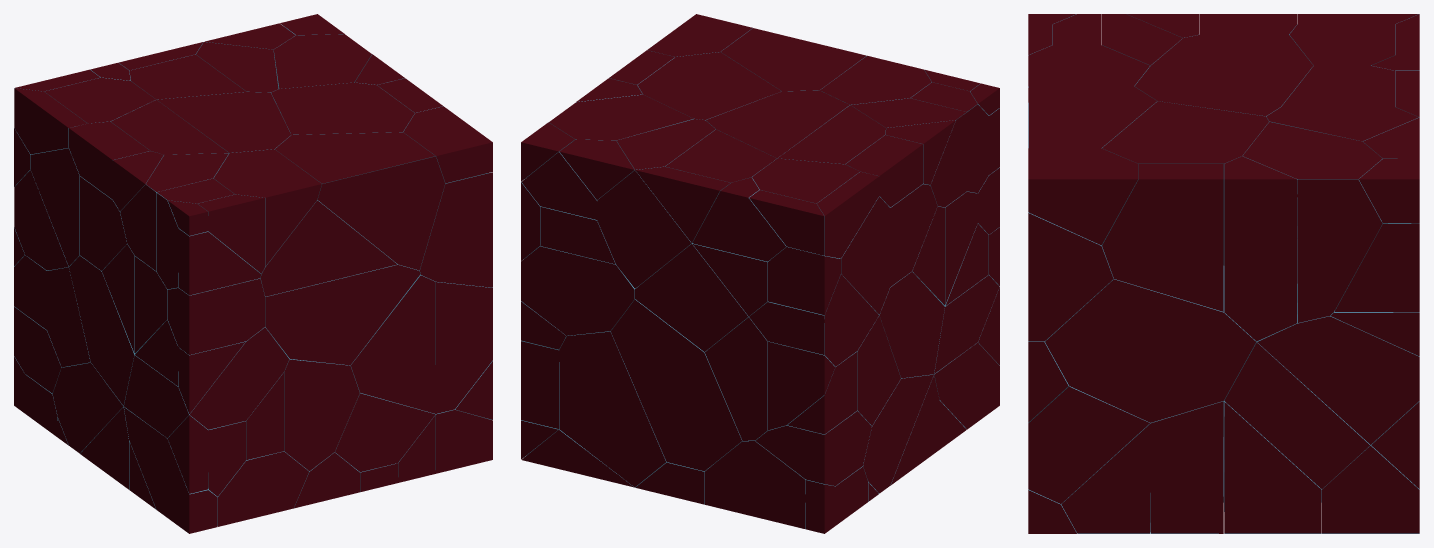
Rendered from cellFracture.glb.
3 renders of one model, left to right at view 1: azimuth 30°, elevation 25°; view 2: azimuth 150°, elevation 25°; view 3: azimuth 270°, elevation 25°, orthographic. The views are drawn at different scales.
Visible parts, largest first — view 1: Cube_cell.003, Cube_cell.061, Cube_cell.044, Cube_cell.070, Cube_cell.082, Cube_cell.098, Cube_cell.092, Cube_cell.072, Cube_cell.023, Cube_cell.045, Cube_cell.083, Cube_cell.030 (+51 smaller); view 2: Cube_cell.031, Cube_cell.096, Cube_cell.034, Cube_cell.052, Cube_cell.022, Cube_cell.042, Cube_cell.072, Cube_cell.030, Cube_cell.083, Cube_cell.043, Cube_cell.057, Cube_cell.053 (+53 smaller); view 3: Cube_cell.088, Cube_cell.071, Cube_cell.095, Cube_cell.073, Cube_cell.074, Cube_cell.068, Cube_cell.010, Cube_cell.080, Cube_cell.006, Cube_cell.002, Cube_cell.072, Cube_cell.070 (+26 smaller).
Part boxes in pixels (box(x1,y1,x2,y2)): Cube_cell.003: box(265, 262, 420, 365); Cube_cell.061: box(317, 156, 445, 270); Cube_cell.044: box(350, 274, 435, 413); Cube_cell.070: box(419, 172, 492, 287); Cube_cell.082: box(259, 200, 397, 296); Cube_cell.098: box(284, 358, 359, 470); Cube_cell.092: box(435, 281, 492, 413); Cube_cell.072: box(271, 82, 414, 134); Cube_cell.023: box(213, 149, 321, 271); Cube_cell.045: box(167, 278, 264, 354); Cube_cell.083: box(275, 132, 435, 183); Cube_cell.030: box(157, 92, 290, 153); Cube_cell.031: box(610, 299, 742, 471); Cube_cell.096: box(559, 331, 666, 487); Cube_cell.034: box(521, 246, 637, 335); Cube_cell.052: box(635, 243, 751, 351); Cube_cell.022: box(597, 170, 691, 288); Cube_cell.042: box(704, 440, 809, 529); Cube_cell.072: box(637, 52, 781, 120); Cube_cell.030: box(706, 90, 849, 158); Cube_cell.083: box(721, 28, 866, 91); Cube_cell.043: box(704, 317, 767, 440); Cube_cell.057: box(755, 411, 871, 485); Cube_cell.053: box(879, 271, 944, 378); Cube_cell.088: box(1045, 266, 1256, 422); Cube_cell.071: box(1102, 164, 1223, 311); Cube_cell.095: box(1224, 156, 1297, 341); Cube_cell.073: box(1257, 303, 1419, 444); Cube_cell.074: box(1224, 341, 1370, 488); Cube_cell.068: box(1297, 179, 1382, 322); Cube_cell.010: box(1150, 401, 1223, 533); Cube_cell.080: box(1224, 401, 1321, 533); Cube_cell.006: box(1028, 386, 1149, 503); Cube_cell.002: box(1028, 148, 1138, 245); Cube_cell.072: box(1102, 101, 1268, 265); Cube_cell.070: box(1028, 212, 1113, 341).
Bounding box in the file's own units: 2 × 2 × 2.
